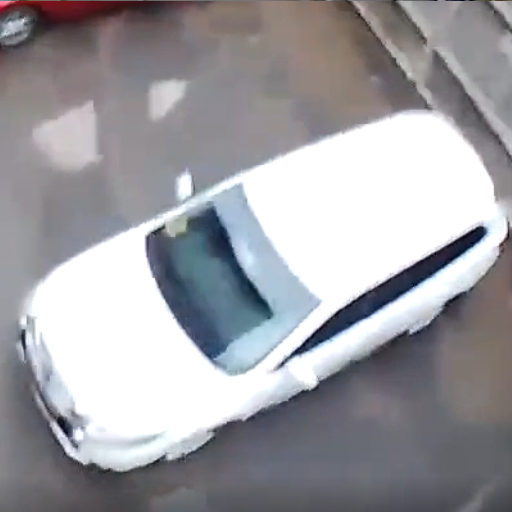Car: (14, 110, 509, 473)
